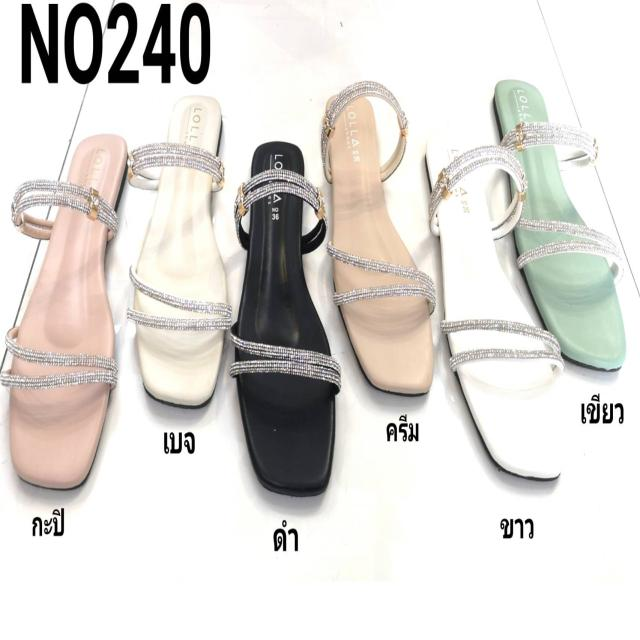bej: (133, 94, 226, 408)
black: (230, 139, 334, 494)
cream: (326, 98, 432, 389)
green: (492, 76, 625, 378)
kapi: (4, 139, 128, 501)
white: (428, 124, 565, 481)
